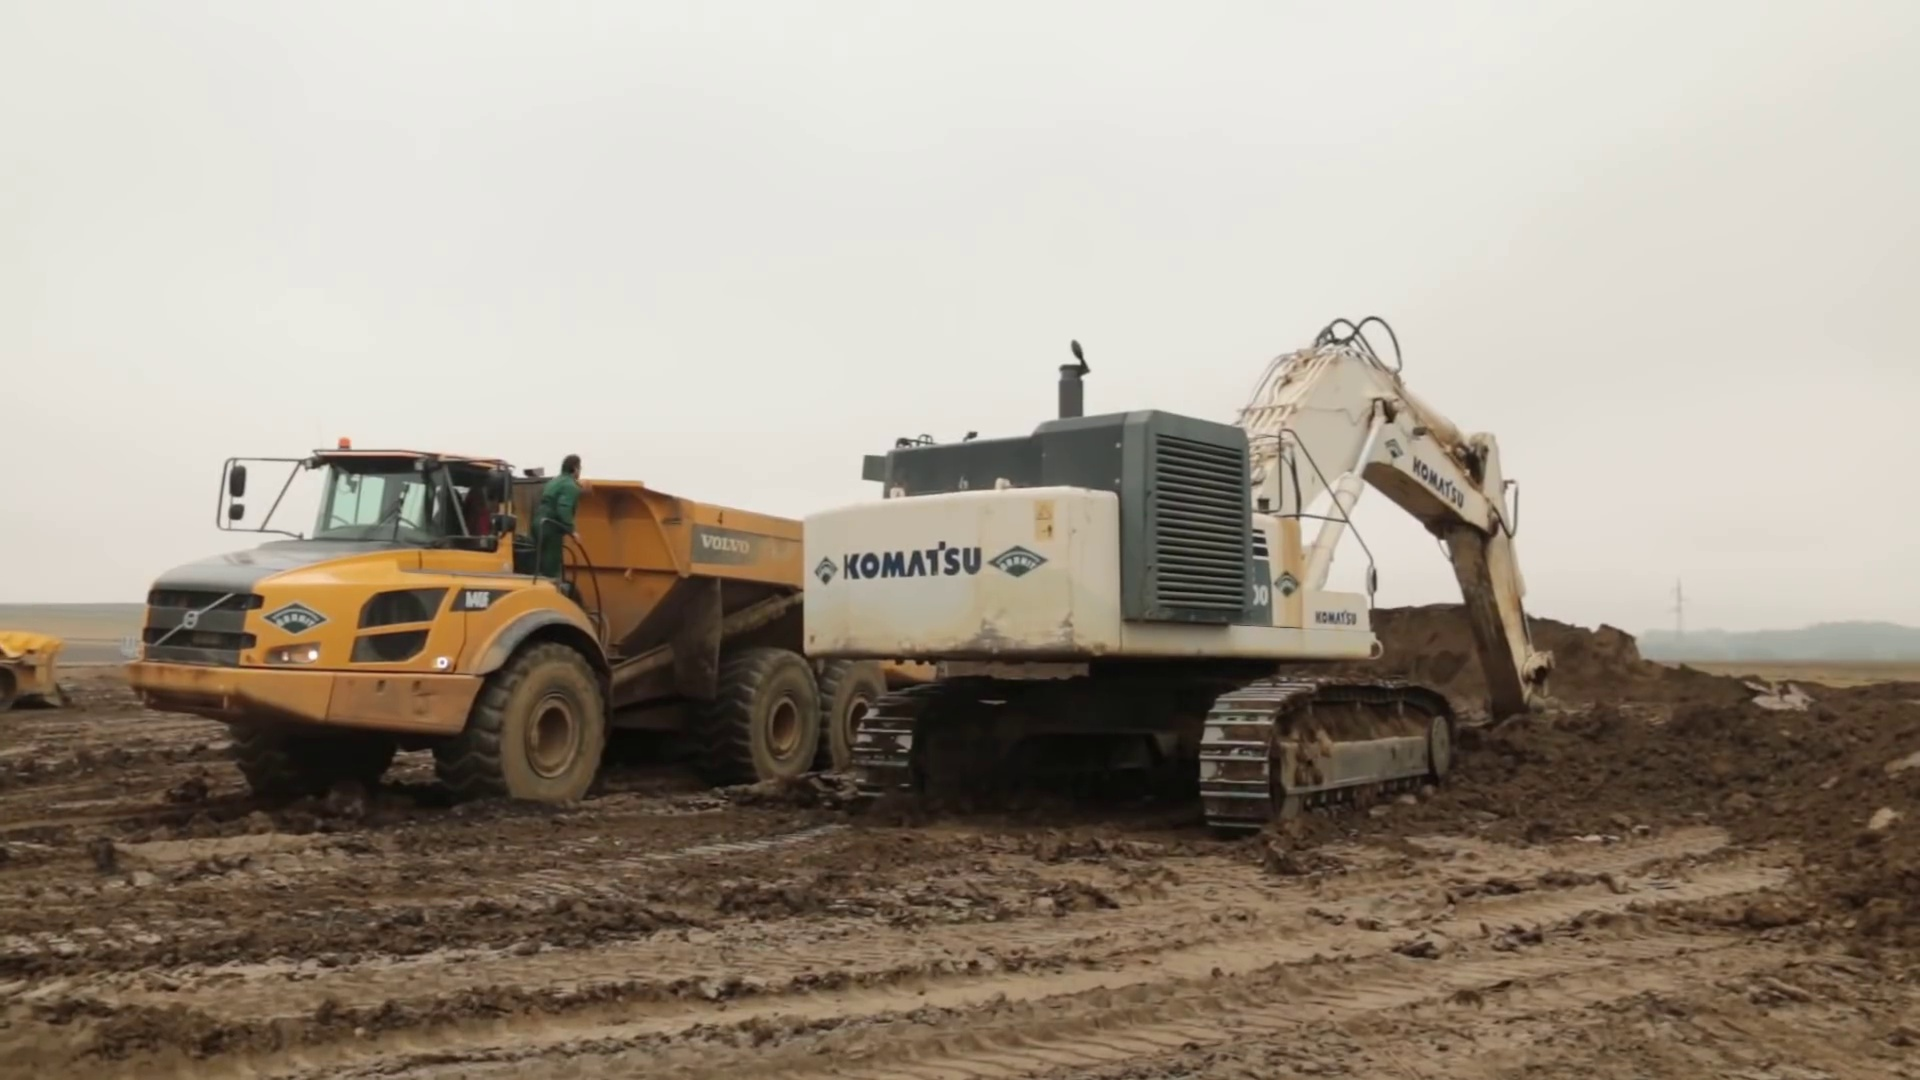dumper: (130, 435, 875, 806)
excavator: (794, 317, 1588, 835)
person: (535, 450, 582, 565)
